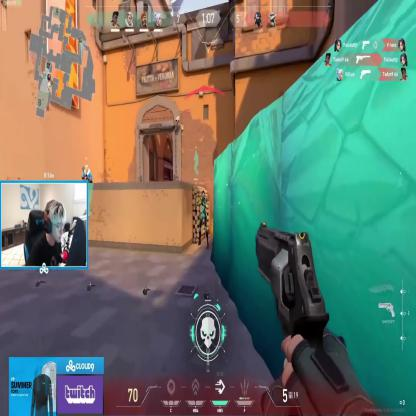enemy: (198, 190, 208, 249)
enemy_head: (201, 190, 205, 199)
